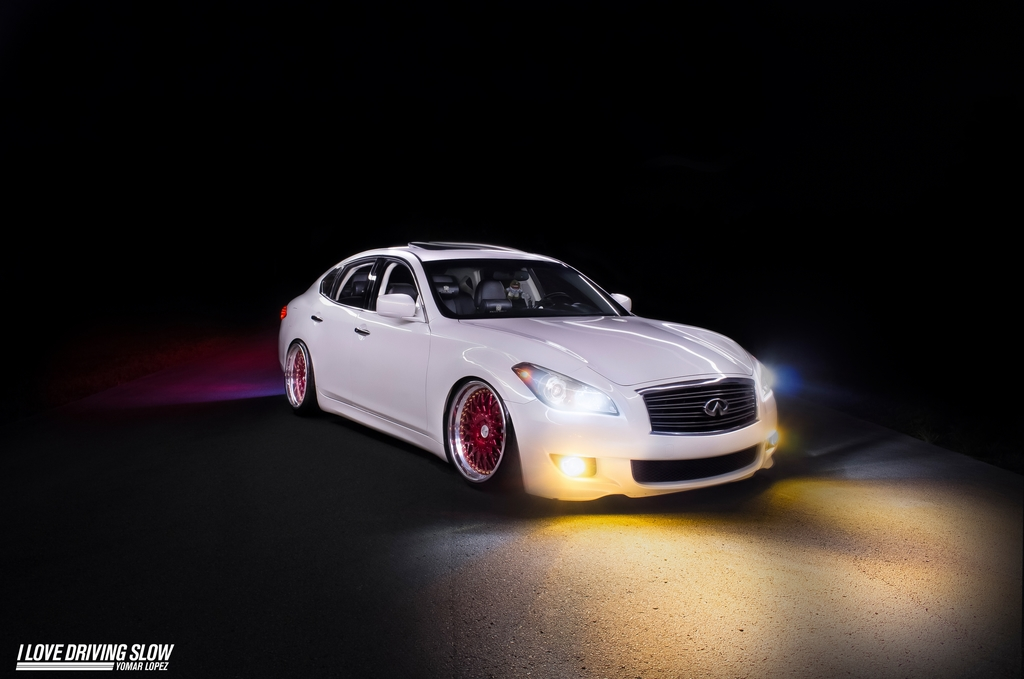Car: (262, 231, 787, 507)
